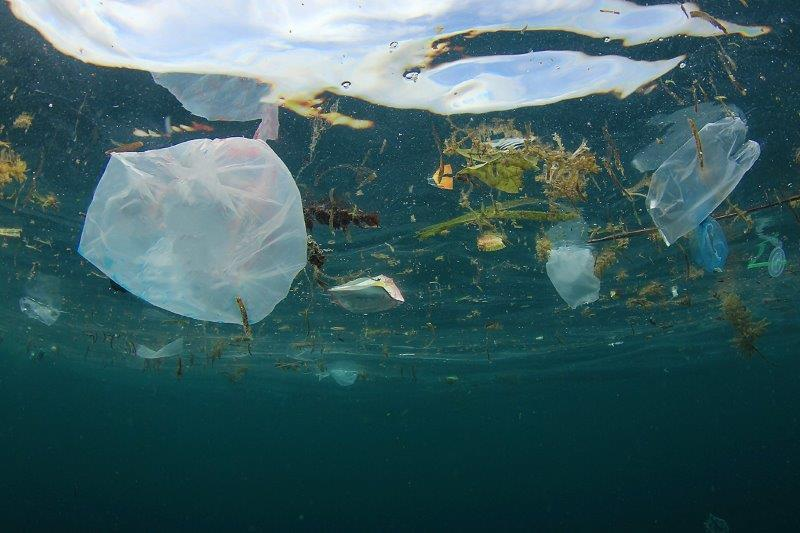plastic: (76, 132, 310, 331), (650, 116, 764, 246), (543, 242, 604, 309), (16, 294, 60, 327), (133, 338, 186, 360), (314, 362, 358, 387)
